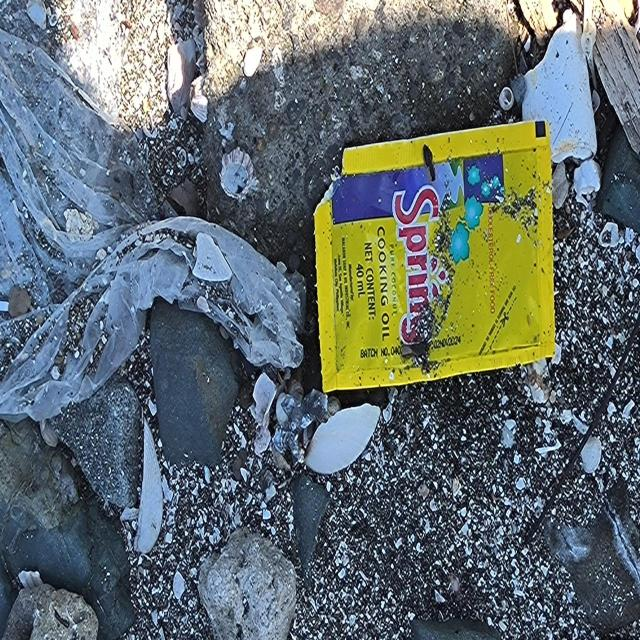plastic_waste: (314, 117, 558, 395)
